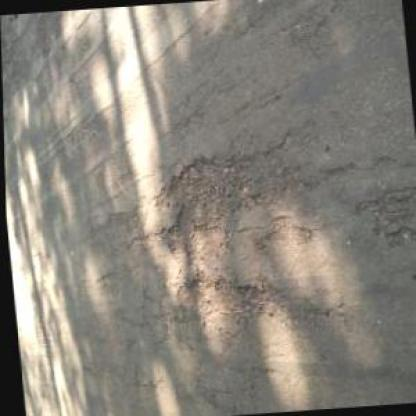pothole: (148, 150, 256, 273), (171, 270, 276, 328)
